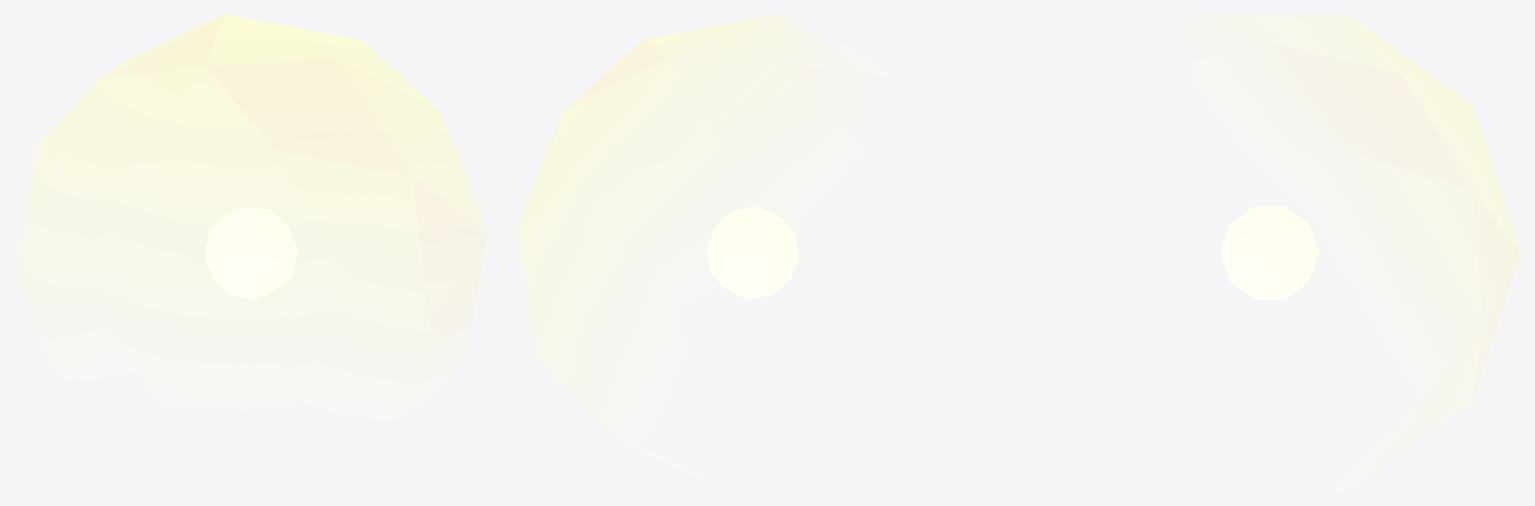
Rendered from glowsprite.glb.
3 views of the same model, side by side, from view 1: azimuth 30°, elevation 25°; view 2: azimuth 150°, elevation 25°; view 3: azimuth 270°, elevation 25° (orthographic). The views are drawn at different scales.
Visible parts, largest first — view 1: Icosphere.001, Icosphere; view 2: Icosphere.001, Icosphere; view 3: Icosphere.001, Icosphere.
Boxes of the visible parts, x1,y1,x2,y2 form: Icosphere.001: [19, 14, 486, 332]; Icosphere: [204, 206, 297, 299]; Icosphere.001: [517, 14, 801, 429]; Icosphere: [706, 206, 799, 299]; Icosphere.001: [1245, 14, 1520, 428]; Icosphere: [1220, 206, 1318, 299].
Size of the model in its own units: 1.92 by 2.02 by 2.02.
2 materials, 1 textured.
